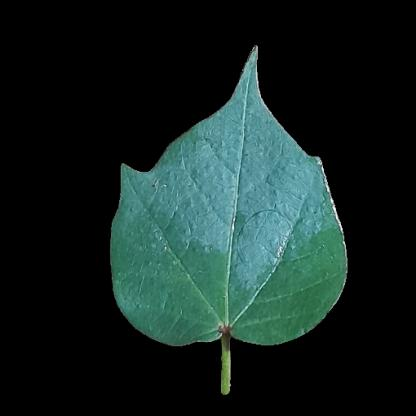healthy: (160, 174, 327, 320), (123, 195, 158, 315), (207, 122, 280, 179)
